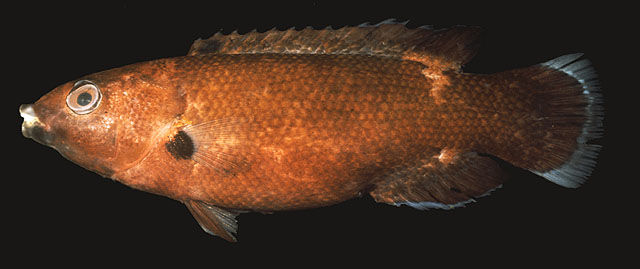fish: (19, 18, 604, 245)
